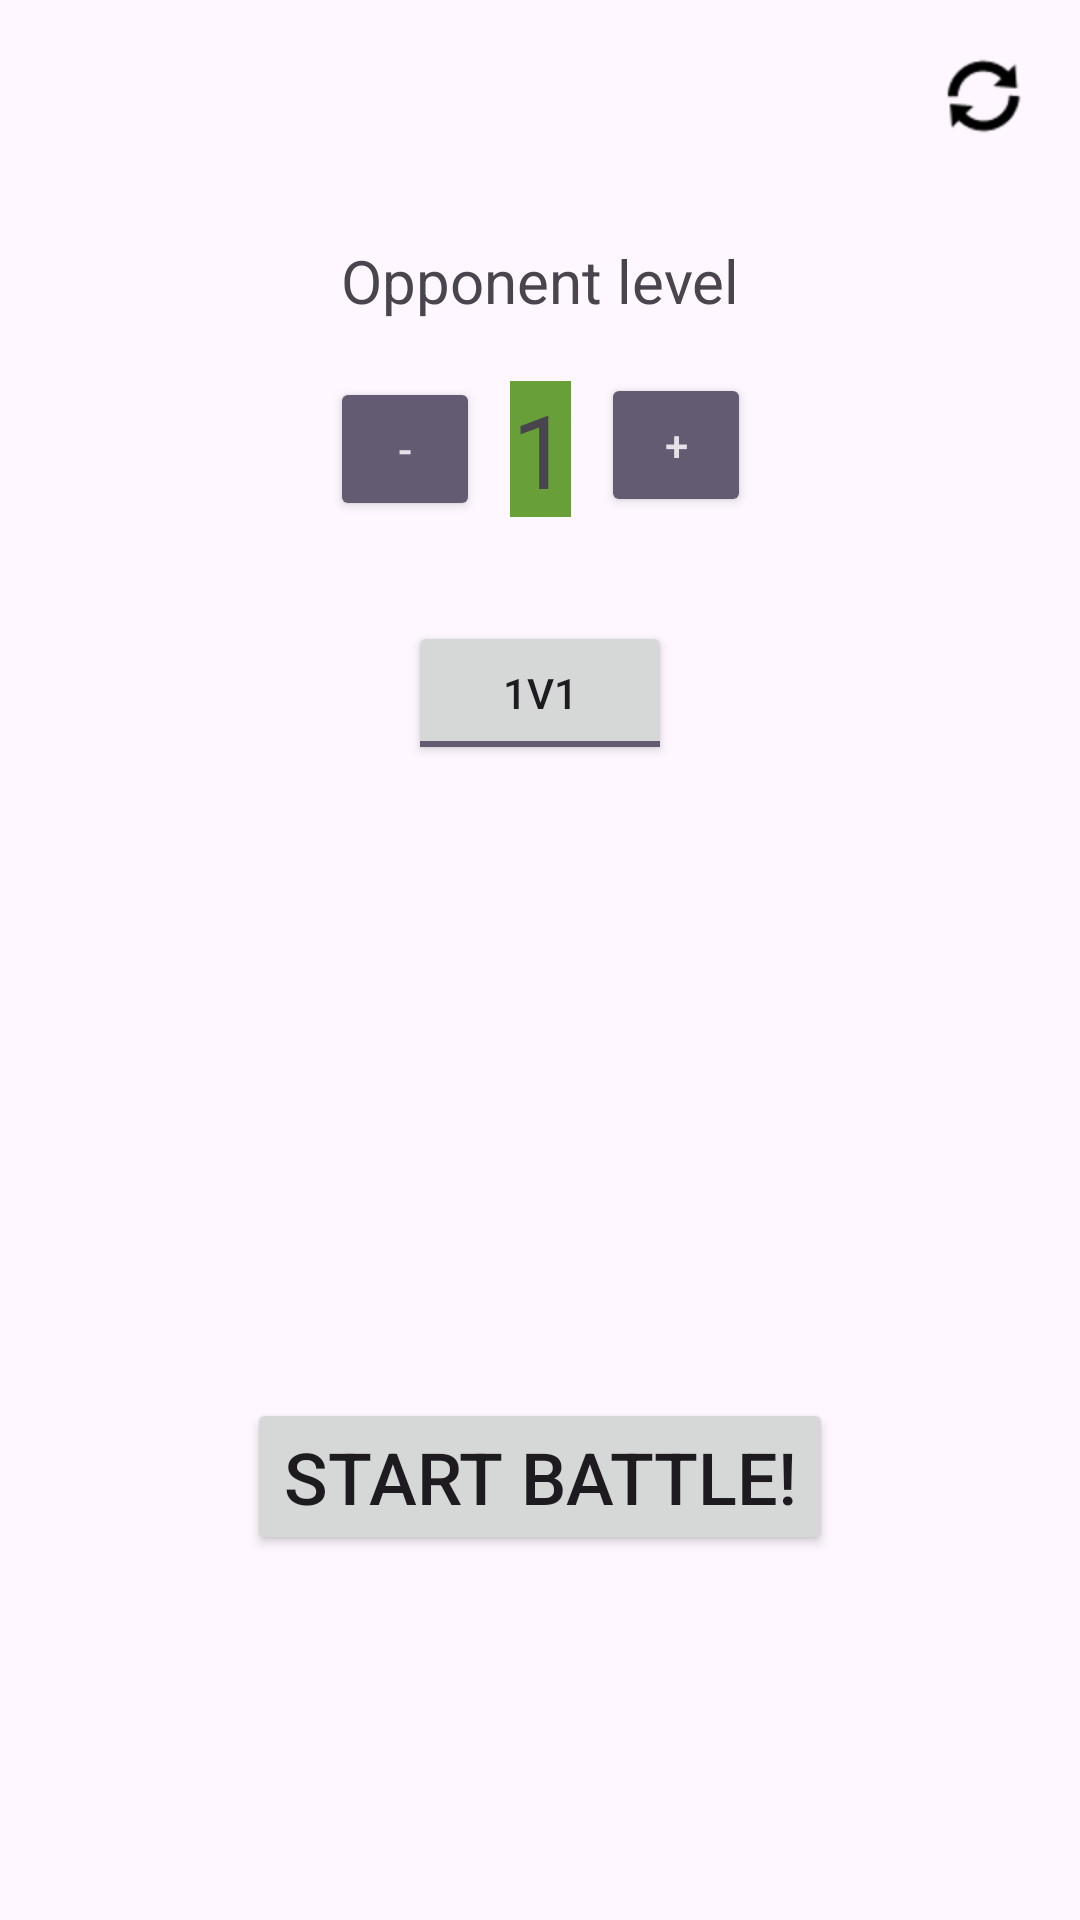

Icon click points for this 1080 × 1920 phone screenshot, format point (x, y):
popup sync: point (984, 96)
